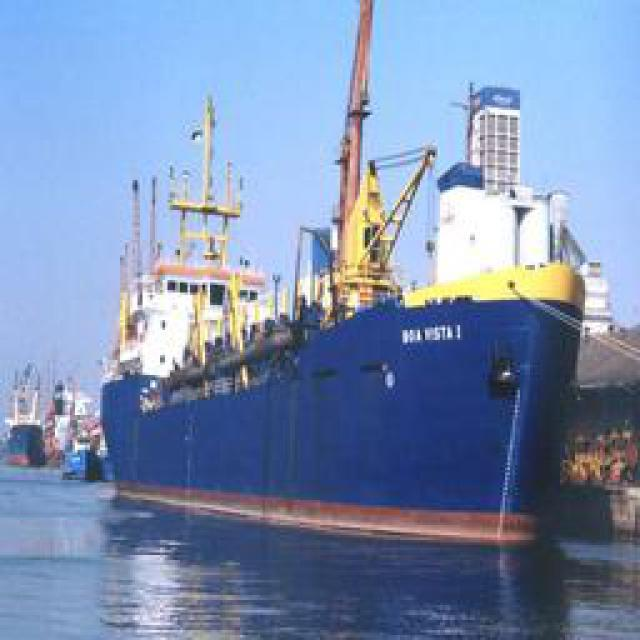Ship: (107, 20, 600, 560)
